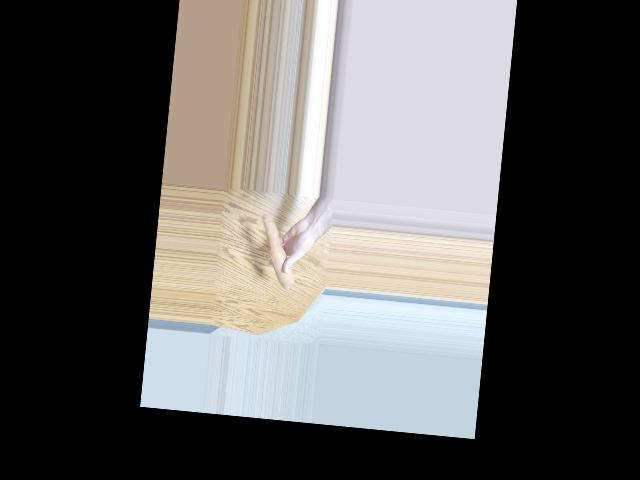sweet_potato: (260, 213, 291, 291)
